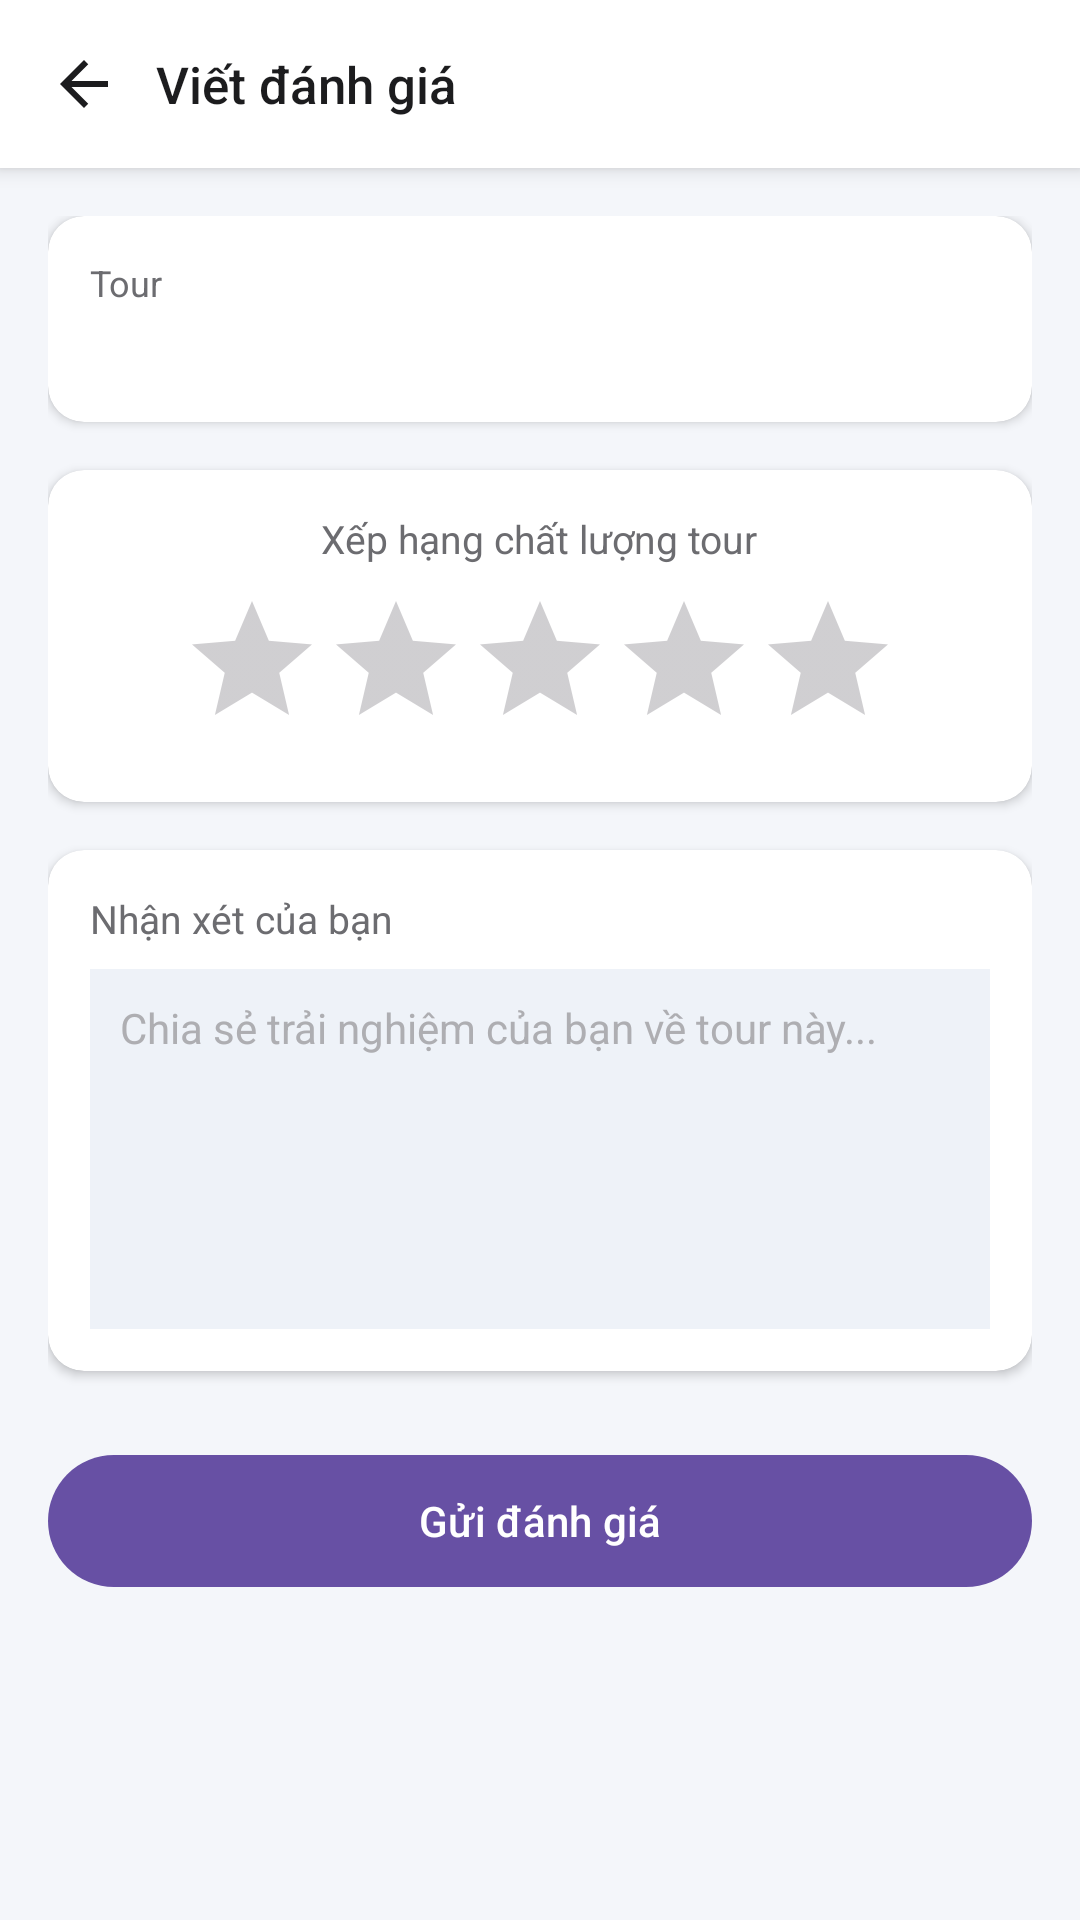

Point at icon controls on the screen. Image size 1080x1920, points as point (x, y).
Quay lại: point (84, 84)
